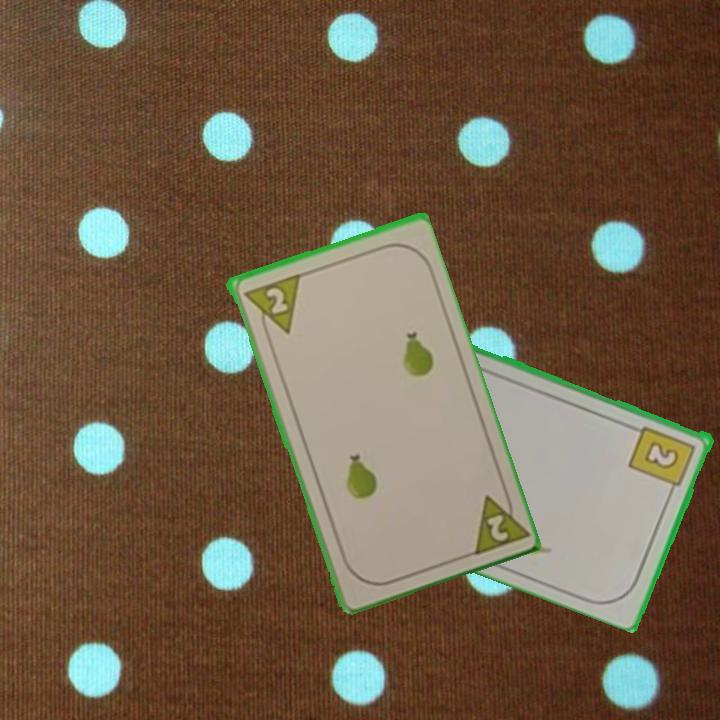2b: (626, 422, 699, 497)
2p: (466, 484, 529, 559), (239, 270, 302, 343)
